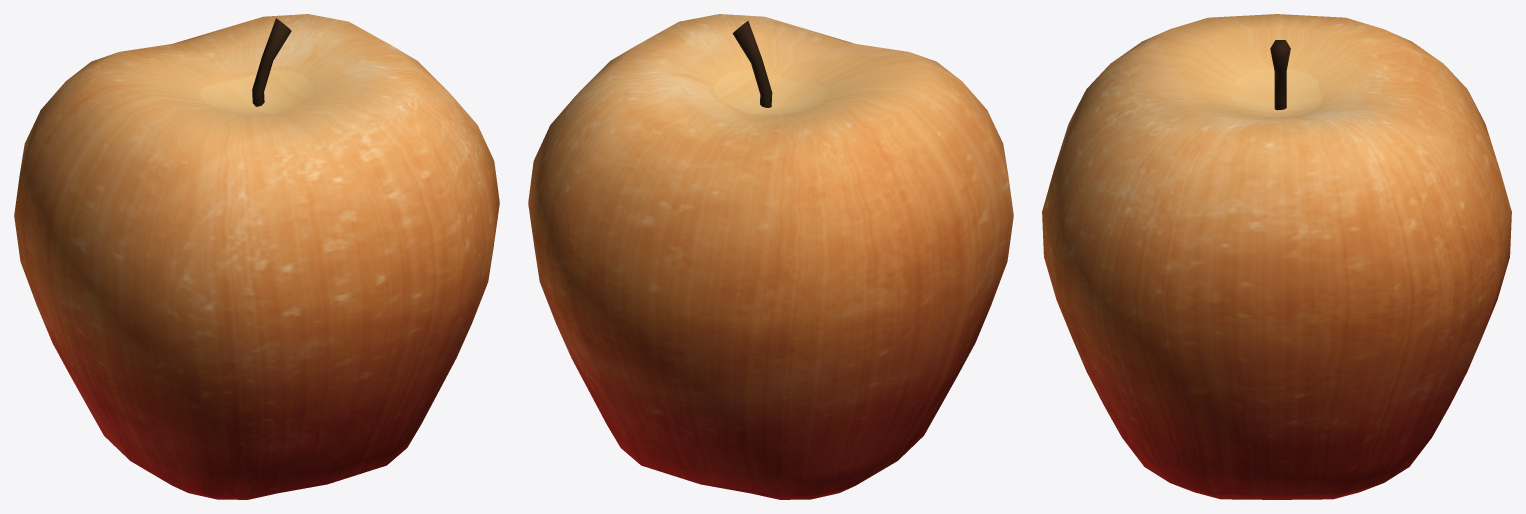
The model's file is fullapple.fbx.
3 views of the same model, side by side, from view 1: azimuth 30°, elevation 25°; view 2: azimuth 150°, elevation 25°; view 3: azimuth 270°, elevation 25° (orthographic).
Visible parts, largest first — view 1: Cylinder; view 2: Cylinder; view 3: Cylinder.
Boxes of the visible parts, <box> form: Cylinder: <box>14,14,499,499</box>; Cylinder: <box>528,14,1013,499</box>; Cylinder: <box>1042,14,1511,499</box>.
Bounding box in the file's own units: 4.67 × 4.72 × 4.69.
